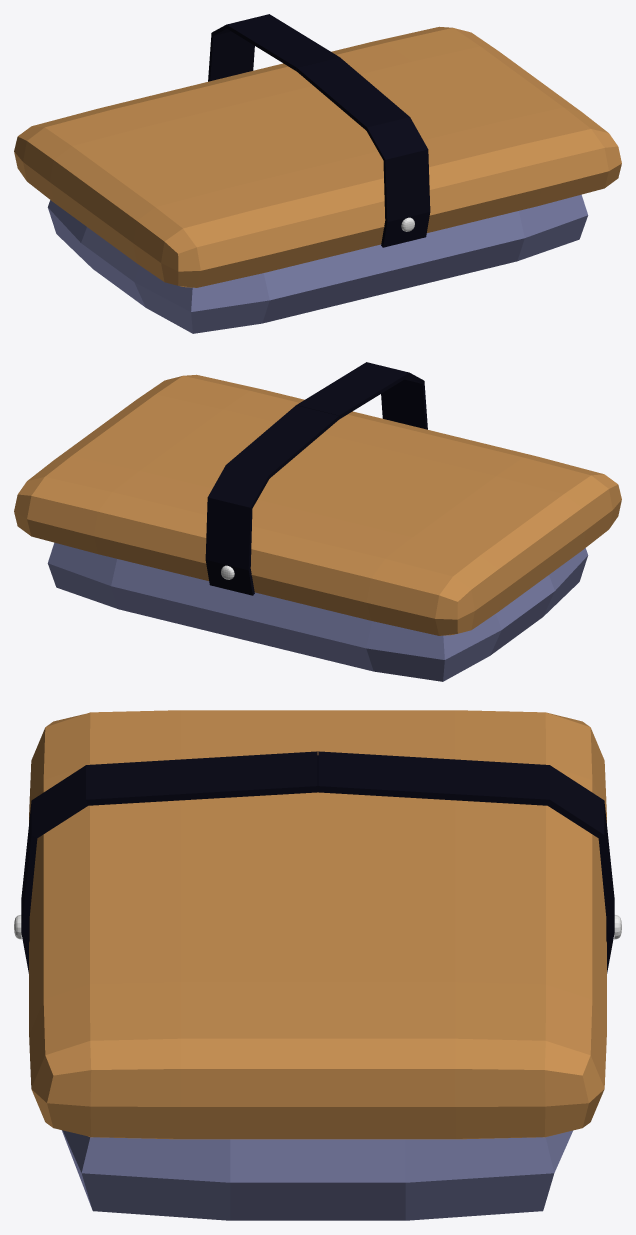
Rendered from Kokuban_Kesi.fbx.
3 renders of one model, top to bottom at view 1: azimuth 30°, elevation 25°; view 2: azimuth 150°, elevation 25°; view 3: azimuth 270°, elevation 25°, orthographic. The views are drawn at different scales.
Parts seen in each view (by area): view 1: Circle; view 2: Circle; view 3: Circle.
Part boxes in pixels (x1,y1,x2,y2): Circle: (14,14,621,333); Circle: (14,362,621,681); Circle: (14,710,621,1220).
Bounding box in the file's own units: 0.1865 × 0.0728 × 0.1315.
